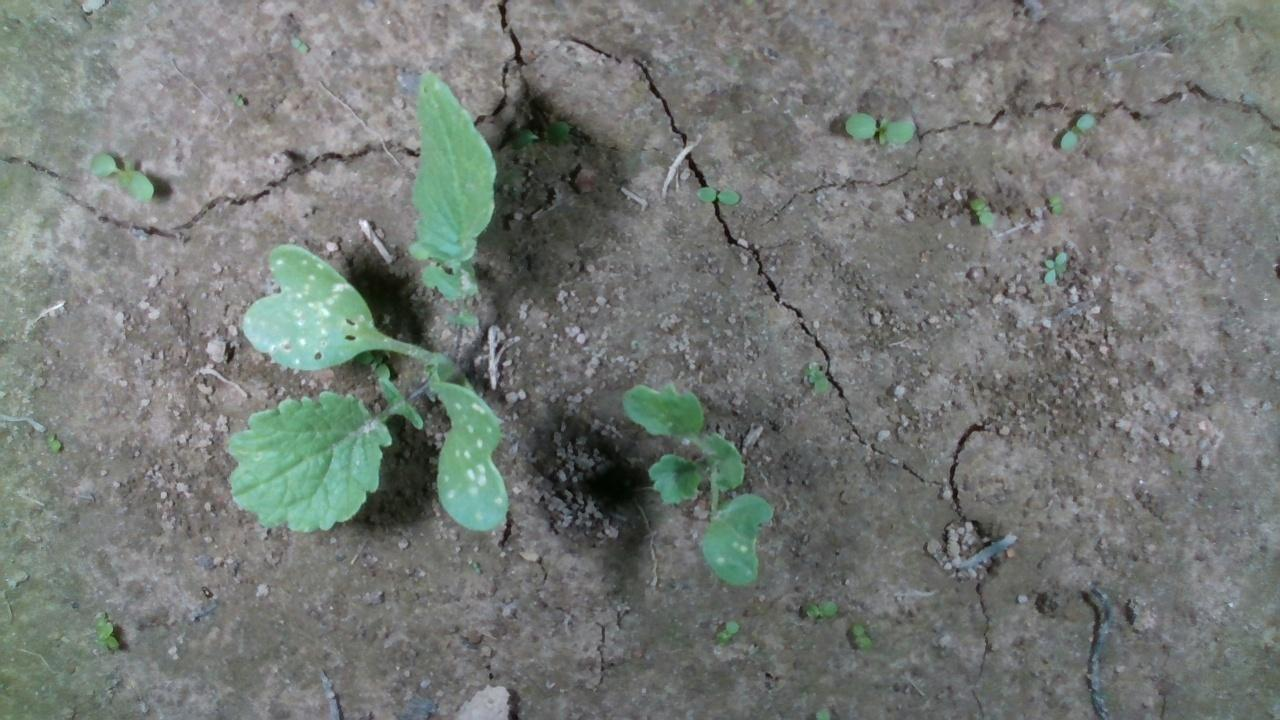weed: (87, 149, 155, 203), (1057, 109, 1095, 149), (693, 183, 740, 204), (1041, 249, 1068, 285), (968, 194, 994, 228), (800, 597, 837, 619), (714, 618, 739, 645), (850, 621, 872, 650), (1046, 191, 1062, 215), (289, 35, 310, 53), (43, 431, 61, 452)
